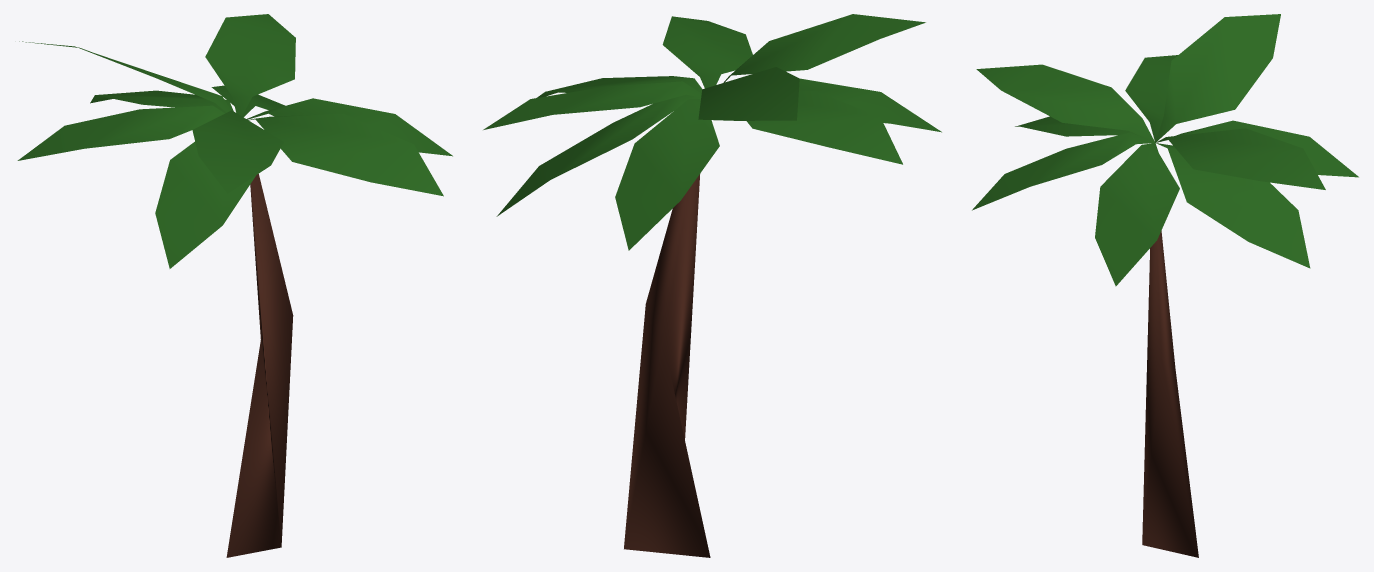
File: SM_palmtree_05_LOD4.fbx
3 renders of one model, left to right at view 1: azimuth 30°, elevation 25°; view 2: azimuth 150°, elevation 25°; view 3: azimuth 270°, elevation 25°, orthographic. The views are drawn at different scales.
Visible parts, largest first — view 1: Palm_tree_02; view 2: Palm_tree_02; view 3: Palm_tree_02.
Part boxes in pixels (left/top/right/bottom): Palm_tree_02: left=17, top=14, right=452, bottom=557; Palm_tree_02: left=483, top=14, right=941, bottom=557; Palm_tree_02: left=972, top=14, right=1358, bottom=557.
Bounding box in the file's own units: 499 × 620 × 469.
